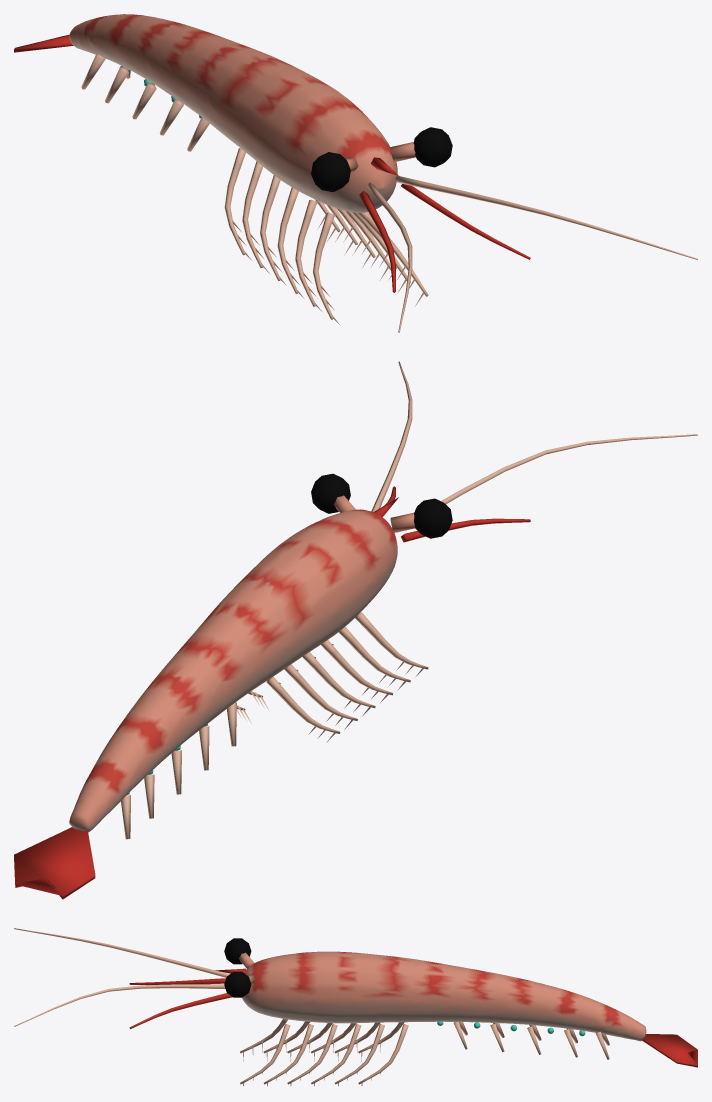
File: EuphausiaSuperba.fbx
3 views of the same model, one above another, from view 1: azimuth 30°, elevation 25°; view 2: azimuth 150°, elevation 25°; view 3: azimuth 270°, elevation 25° (orthographic). The views are drawn at different scales.
Parts seen in each view (by area): view 1: EuphausiaSuperba; view 2: EuphausiaSuperba; view 3: EuphausiaSuperba.
Boxes of the visible parts, <box> form: EuphausiaSuperba: <box>14,14,697,332</box>; EuphausiaSuperba: <box>14,361,697,899</box>; EuphausiaSuperba: <box>14,928,697,1085</box>.
Size of the model in its own units: 0.4416 by 0.2541 by 1.3.
